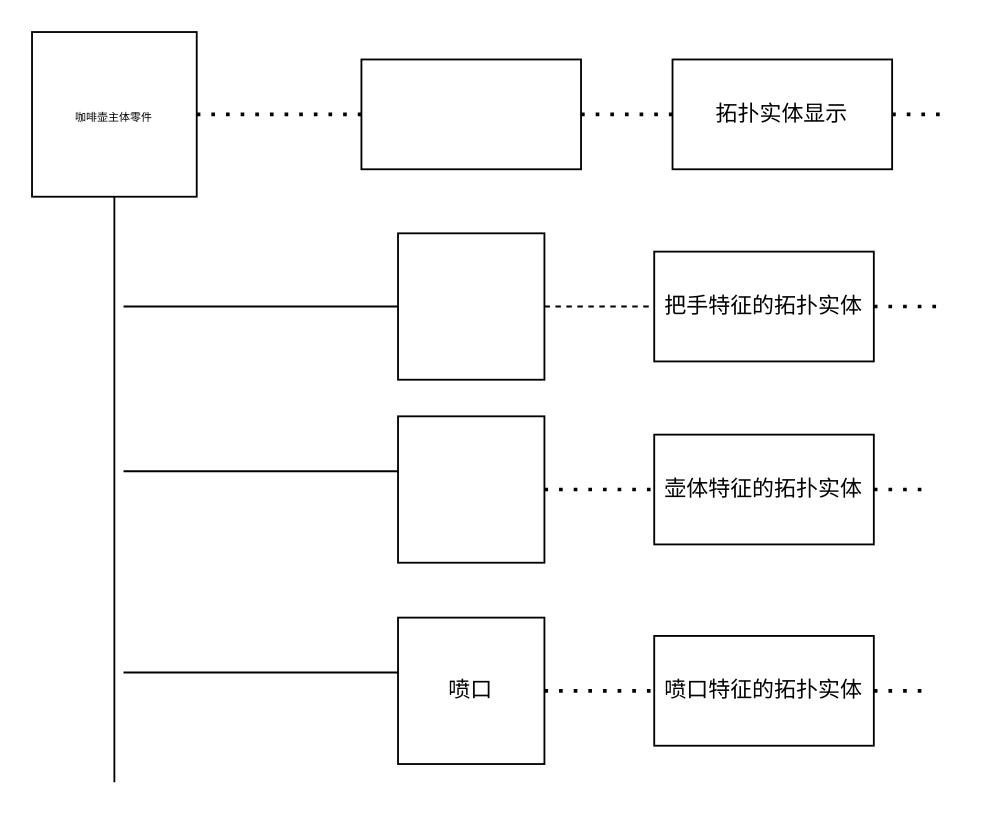
Some shapes in this 983 by 816 pixel diagram are drawn without their labels. Each missing label, with the centre of its shape:
"壶体" belongs at point 470,488.
"把手" belongs at point 470,305.
"拓扑实体" belongs at point 470,113.
